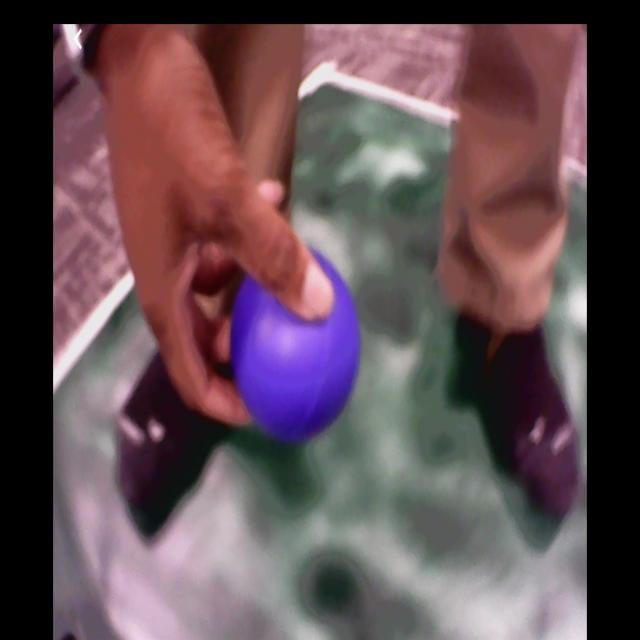ball: (234, 248, 359, 441)
